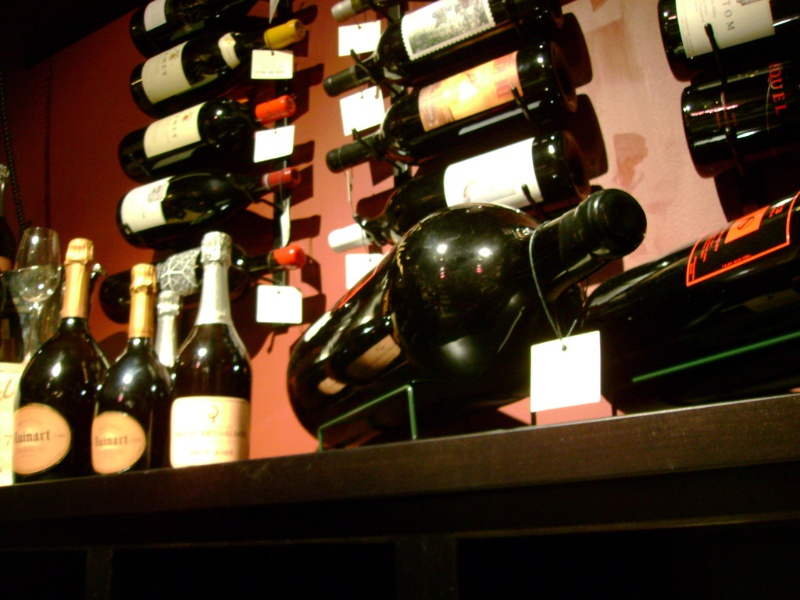wine: (281, 177, 651, 458), (317, 1, 615, 256), (520, 176, 797, 416), (6, 229, 260, 486), (123, 2, 294, 242), (652, 1, 800, 191)
